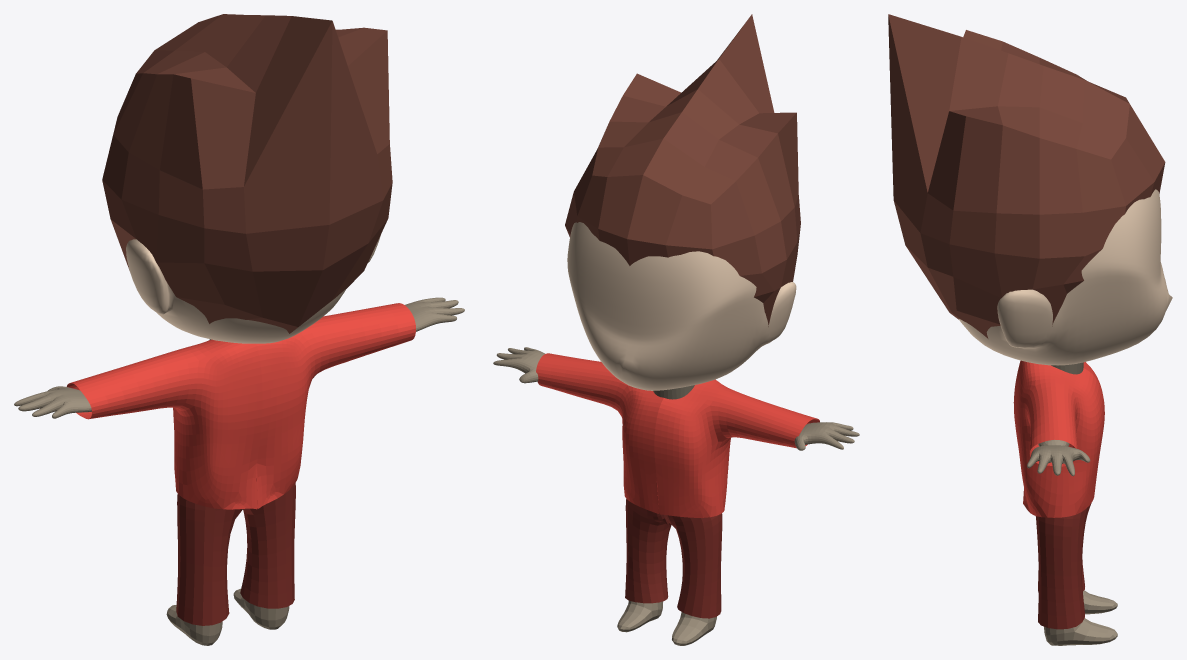
File: modeladoKAIcolor.fbx
3 views of the same model, side by side, from view 1: azimuth 30°, elevation 25°; view 2: azimuth 150°, elevation 25°; view 3: azimuth 270°, elevation 25° (orthographic). The views are drawn at different scales.
Visible parts, largest first — view 1: Pelo, Chaqueta, Pantalon, Head, Cuerpo; view 2: Pelo, Head, Chaqueta, Pantalon, Cuerpo; view 3: Pelo, Head, Chaqueta, Pantalon, Cuerpo.
Part boxes in pixels (left/top/right/bottom): Pelo: left=102, top=14, right=392, bottom=333; Chaqueta: left=66, top=303, right=415, bottom=509; Pantalon: left=176, top=483, right=295, bottom=625; Head: left=126, top=235, right=380, bottom=343; Cuerpo: left=14, top=297, right=464, bottom=645; Pelo: left=565, top=14, right=800, bottom=326; Head: left=567, top=222, right=796, bottom=390; Chaqueta: left=536, top=353, right=819, bottom=517; Pantalon: left=625, top=499, right=722, bottom=618; Cuerpo: left=493, top=347, right=859, bottom=645; Pelo: left=888, top=14, right=1165, bottom=338; Head: left=959, top=189, right=1172, bottom=365; Chaqueta: left=1013, top=360, right=1104, bottom=517; Pantalon: left=1035, top=503, right=1091, bottom=629; Cuerpo: left=1027, top=439, right=1117, bottom=645.
Bounding box in the file's own units: 314 × 466 × 195.
